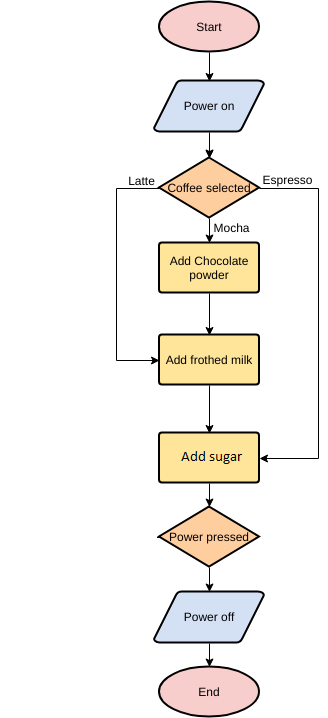arrow: (254, 184, 324, 464), (112, 185, 169, 363), (203, 382, 218, 434), (204, 288, 217, 336), (203, 129, 217, 159), (203, 49, 216, 81), (204, 561, 215, 595), (203, 215, 215, 240), (204, 479, 214, 509), (204, 638, 214, 667)
data: (149, 587, 267, 646), (152, 78, 269, 136)
decision: (156, 503, 265, 571), (154, 154, 261, 220)
process: (154, 427, 263, 488), (154, 239, 263, 296), (155, 332, 263, 389)
terminator: (155, 661, 262, 718), (156, 1, 262, 53)
text: (165, 253, 251, 282), (163, 179, 253, 197), (166, 527, 250, 545), (163, 353, 253, 369), (178, 447, 244, 466), (181, 609, 236, 625), (259, 173, 314, 188), (179, 99, 236, 113), (193, 17, 225, 35), (119, 176, 157, 189), (213, 222, 251, 235), (194, 684, 225, 697)
